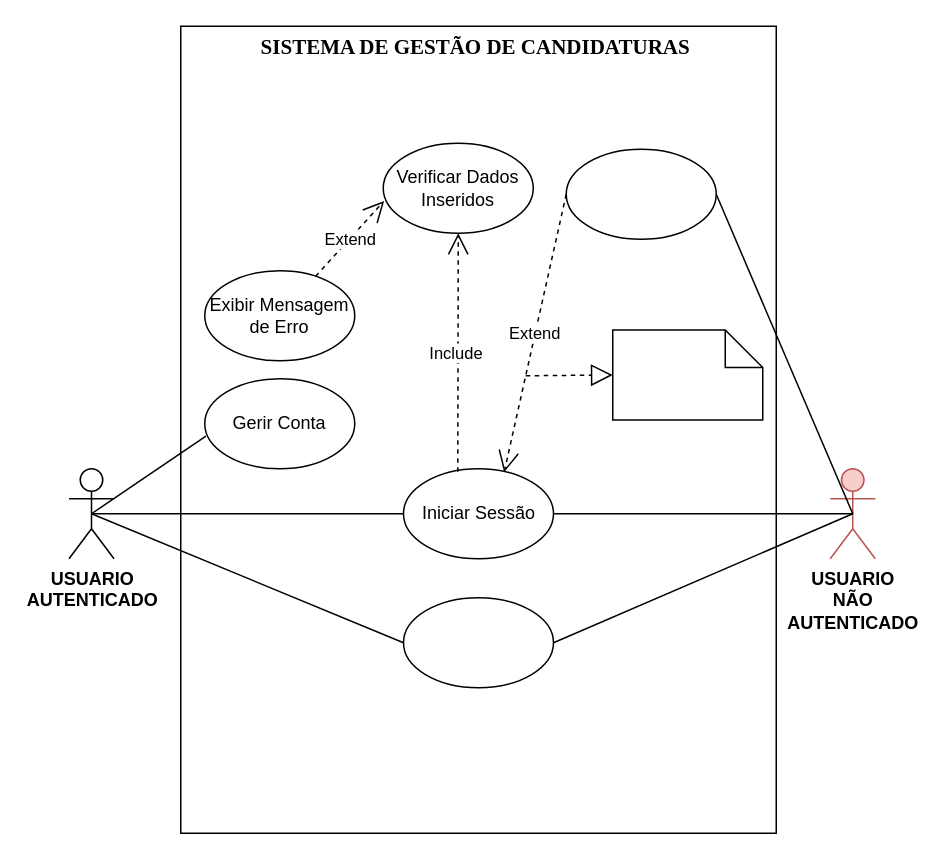
Image size: 944x860. Some labels were removed from this diagram. Here are the shapes that lost their labels. From the top down, the box of each, then its label:
(565, 148, 716, 239): Criar Conta
(611, 328, 763, 420): Caso Não Tenha Uma Conta
(402, 596, 554, 688): Visualizar informações no site
